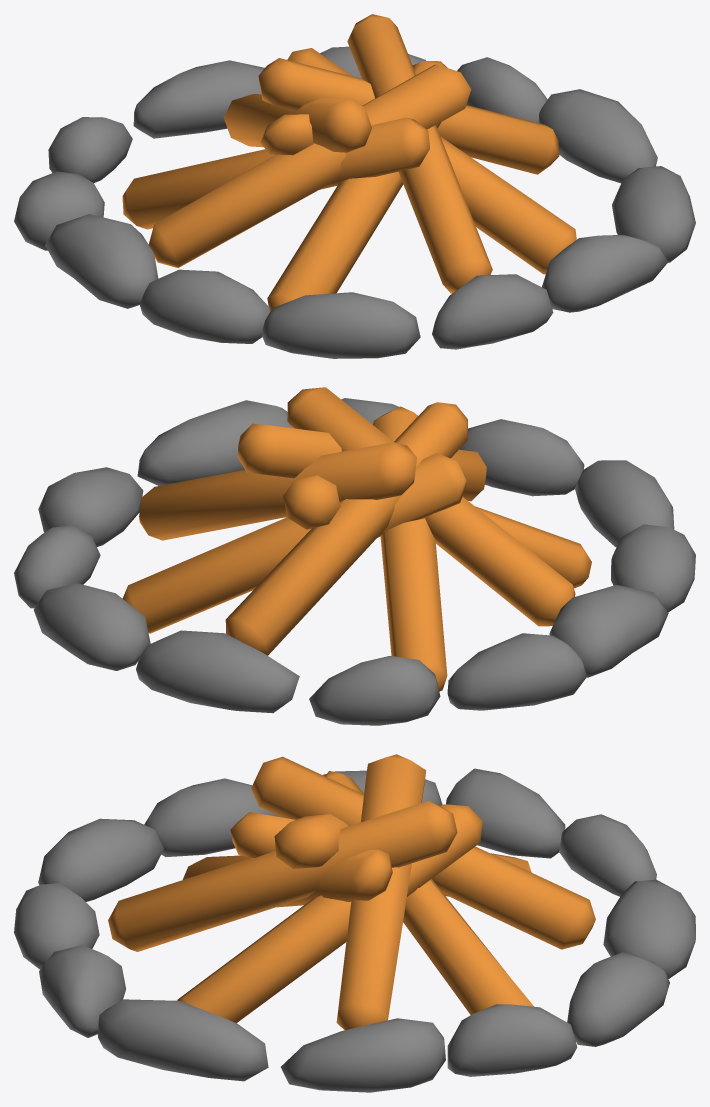
File: campfire.fbx
The picture shows the model from 3 angles, top to bottom: view 1: azimuth 30°, elevation 25°; view 2: azimuth 150°, elevation 25°; view 3: azimuth 270°, elevation 25°; orthographic projection. The views are drawn at different scales.
Parts seen in each view (by area): view 1: Cube.004; view 2: Cube.004; view 3: Cube.004.
Boxes of the visible parts, box(x1,y1,x2,y2) form: Cube.004: box(14, 14, 695, 358); Cube.004: box(14, 387, 695, 725); Cube.004: box(14, 754, 695, 1092).
Size of the model in its own units: 131 by 42.3 by 130.
